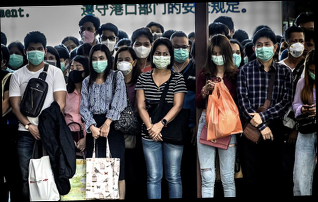with_mask: (254, 39, 275, 62), (287, 37, 307, 58), (117, 54, 136, 76), (153, 49, 172, 70), (171, 42, 190, 63), (26, 45, 45, 65), (132, 40, 151, 59), (92, 53, 109, 74), (100, 34, 117, 53), (8, 49, 24, 69), (69, 62, 84, 83), (229, 47, 243, 69), (211, 48, 227, 66), (80, 25, 95, 44), (308, 67, 316, 84)
